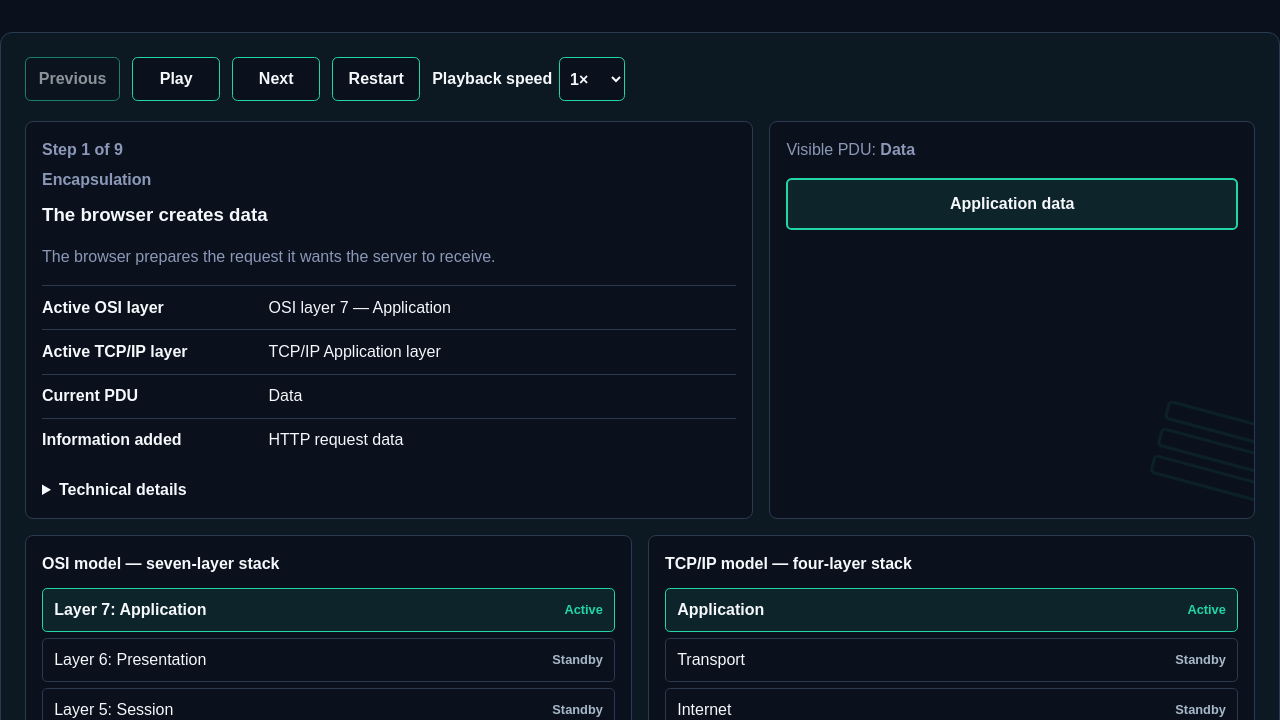
Test: EncapsulationPlayer › does not autoplay or schedule a timer during the SSR-to-hydration preference handoff
This screenshot has width=1280, height=720.
Expected: the button "Play" is enabled, [132,57,220,101]
Click the button "Next".
click(276, 79)  # box [232,57,320,101]
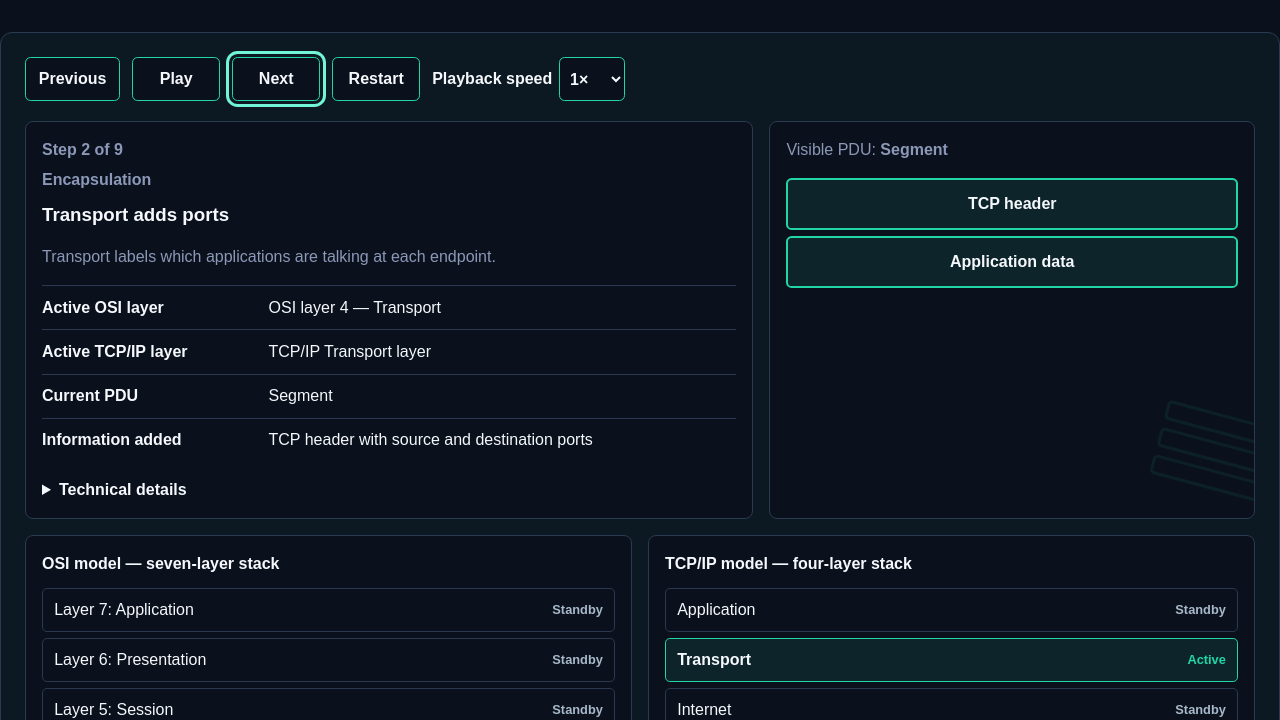
Result: the text "Step 2 of 9" is shown at [42,141,123,158]
